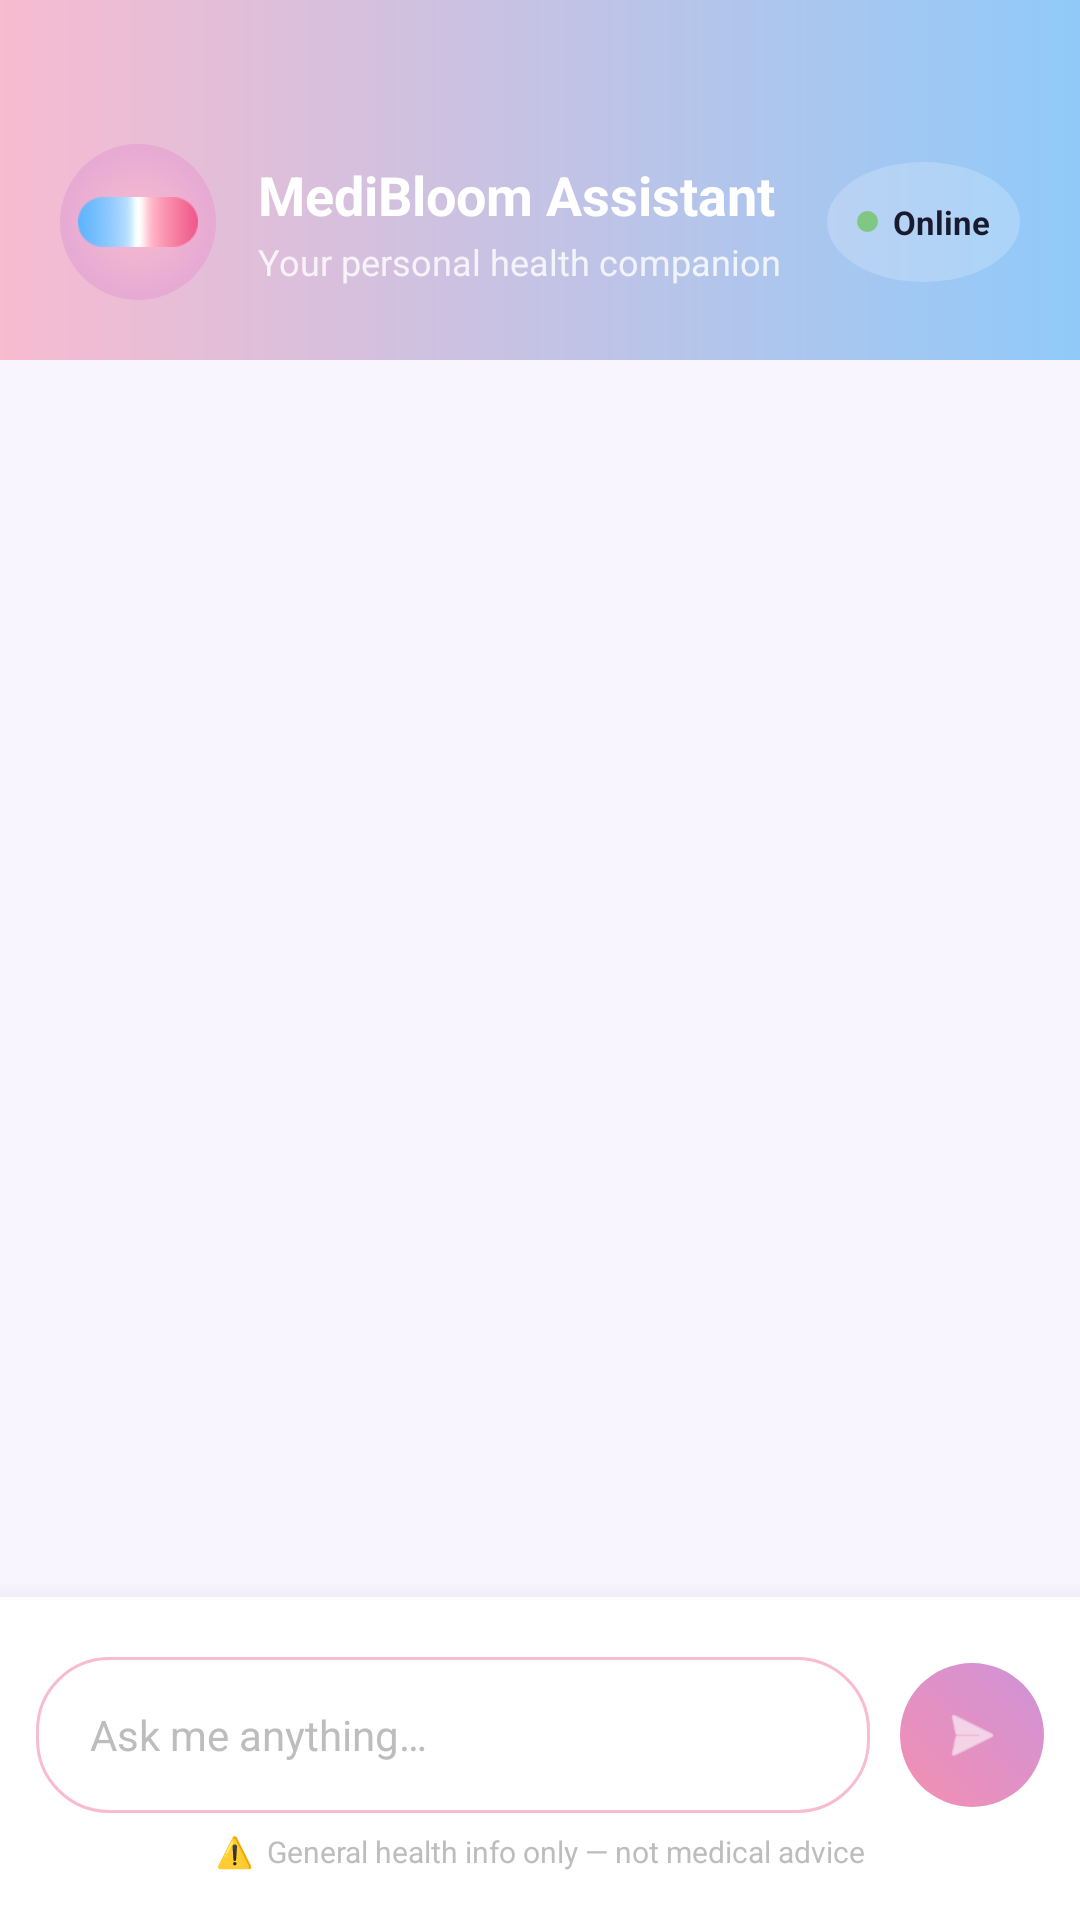

Where icons sit on this 1080 × 1920 app screen, as (x1, y1, x2, y2):
Send: (952, 1715, 993, 1756)
